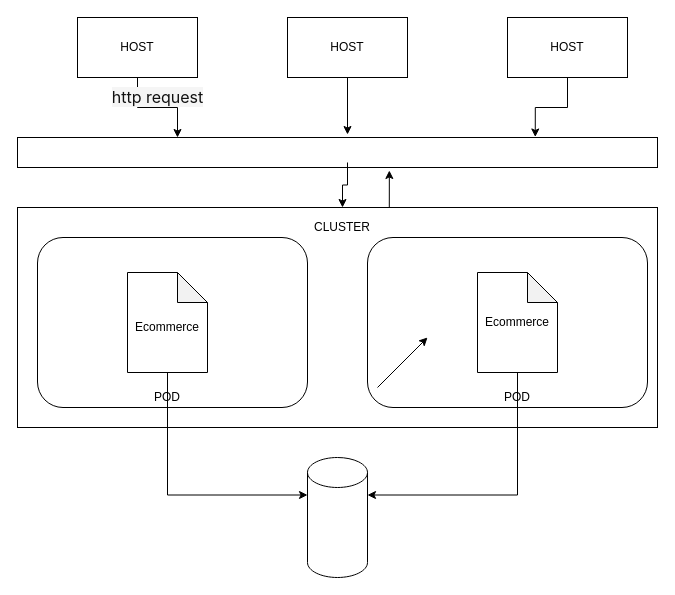
This 675x595 diagram has some shape labels left out. The centre of each missing label's shape, as x and y in pixels:
Services: the point at 337,152
VOLUME: the point at 337,517
